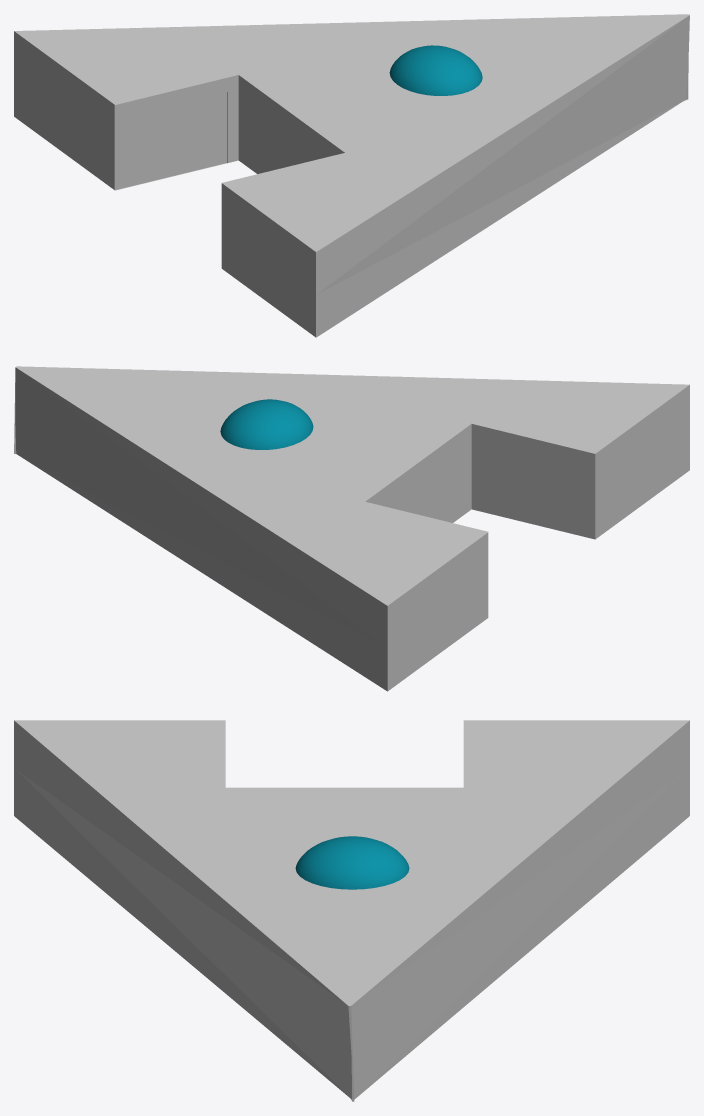
The model's file is Ship2.dae.
The picture shows the model from 3 angles, top to bottom: view 1: azimuth 30°, elevation 25°; view 2: azimuth 150°, elevation 25°; view 3: azimuth 270°, elevation 25°; orthographic projection. The views are drawn at different scales.
Visible parts, largest first — view 1: Cube, Sphere; view 2: Cube, Sphere; view 3: Cube, Sphere.
Part boxes in pixels (x1,y1,x2,y2): Cube: (14,14,689,337); Sphere: (389,45,482,95); Cube: (14,366,689,691); Sphere: (220,399,313,449); Cube: (14,720,689,1101); Sphere: (295,836,409,889).
Size of the model in its own units: 1.66 by 1.66 by 0.3286.
